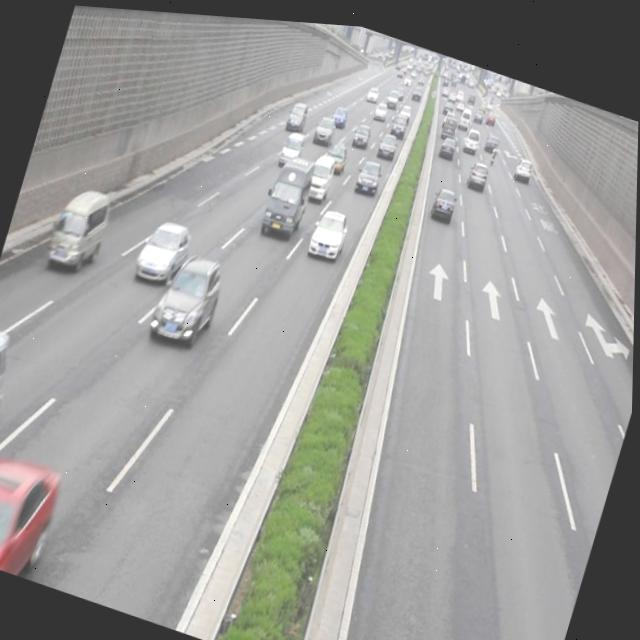car: (0, 437, 65, 581), (149, 240, 229, 350), (133, 211, 194, 288), (306, 199, 351, 258), (429, 176, 460, 217), (354, 150, 385, 191), (323, 131, 351, 168)
truck: (46, 178, 116, 277), (259, 144, 318, 239), (0, 322, 18, 479), (303, 145, 338, 198), (277, 121, 308, 165)
